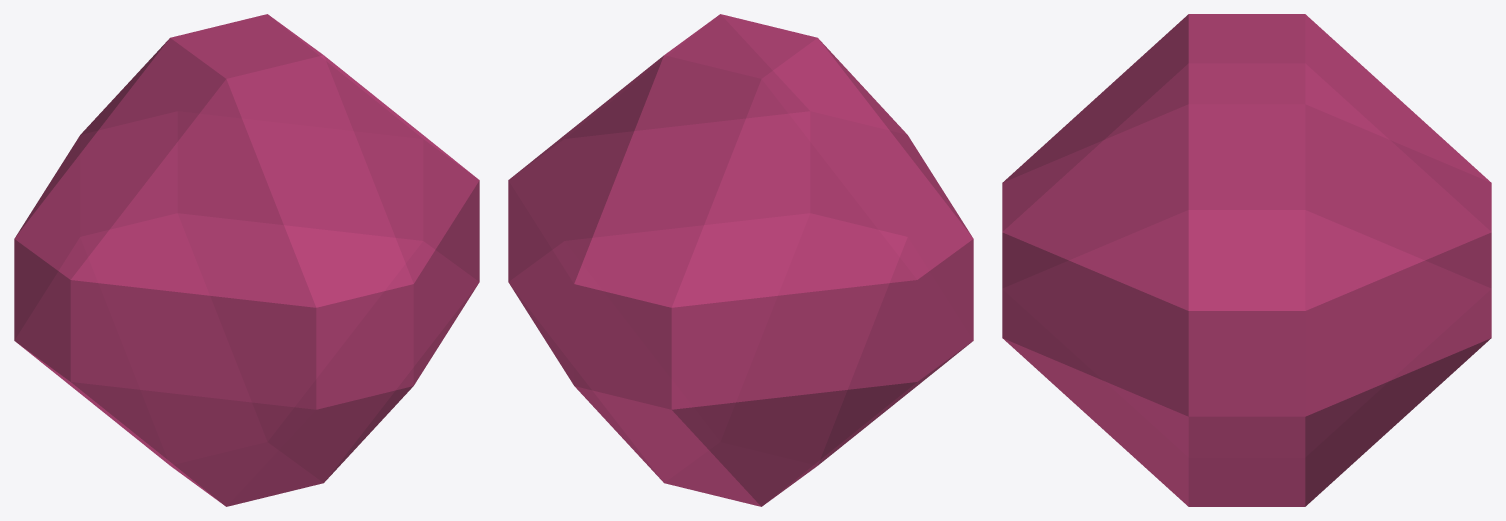
Rendered from gravity_projectile.fbx.
3 renders of one model, left to right at view 1: azimuth 30°, elevation 25°; view 2: azimuth 150°, elevation 25°; view 3: azimuth 270°, elevation 25°, orthographic. The views are drawn at different scales.
Visible parts, largest first — view 1: Cube; view 2: Cube; view 3: Cube.
Part boxes in pixels (left/top/right/bottom): Cube: left=14, top=14, right=479, bottom=506; Cube: left=508, top=14, right=973, bottom=506; Cube: left=1002, top=14, right=1491, bottom=506.
Bounding box in the file's own units: 200 × 200 × 200.
